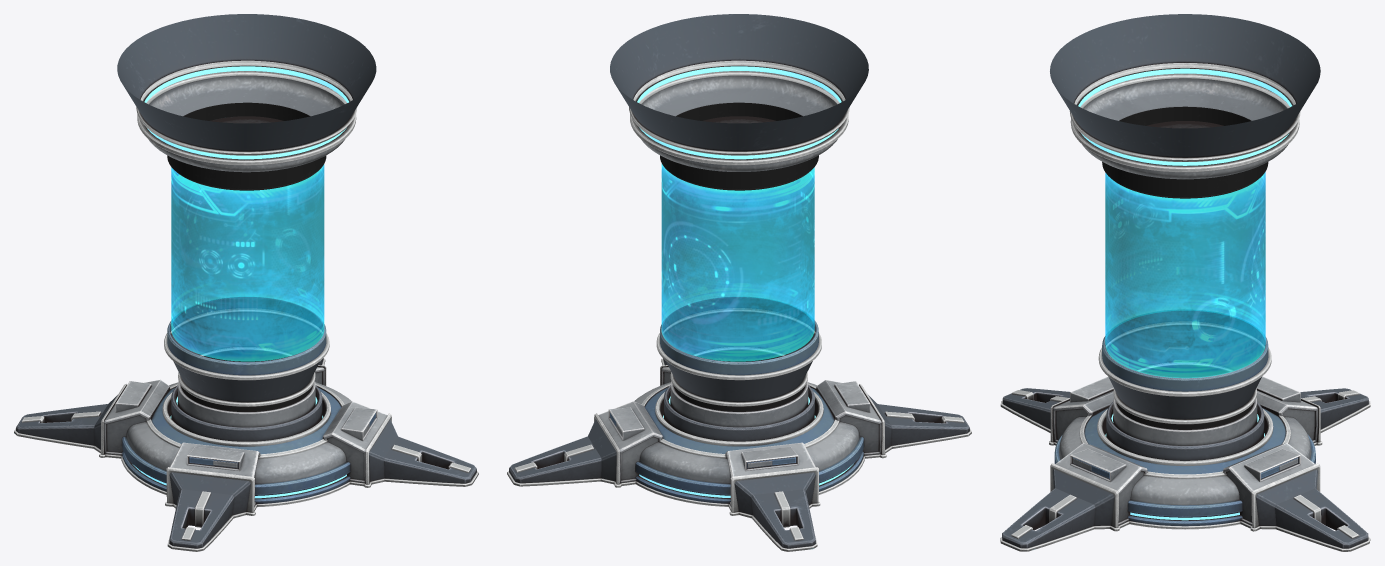
The picture shows the model from 3 angles, left to right: view 1: azimuth 30°, elevation 25°; view 2: azimuth 150°, elevation 25°; view 3: azimuth 270°, elevation 25°; orthographic projection. The views are drawn at different scales.
Visible parts, largest first — view 1: Object_11.001, Object_13.001; view 2: Object_11.001, Object_13.001; view 3: Object_11.001, Object_13.001.
Part boxes in pixels (x1,y1,x2,y2): Object_11.001: (14,14,478,551); Object_13.001: (171,164,324,361); Object_11.001: (507,14,971,551); Object_13.001: (661,163,814,361); Object_11.001: (1000,14,1370,551); Object_13.001: (1105,172,1265,378).
Bounding box in the file's own units: 3.25 × 3.89 × 3.25.
Materials: 2 (2 with a texture image).
